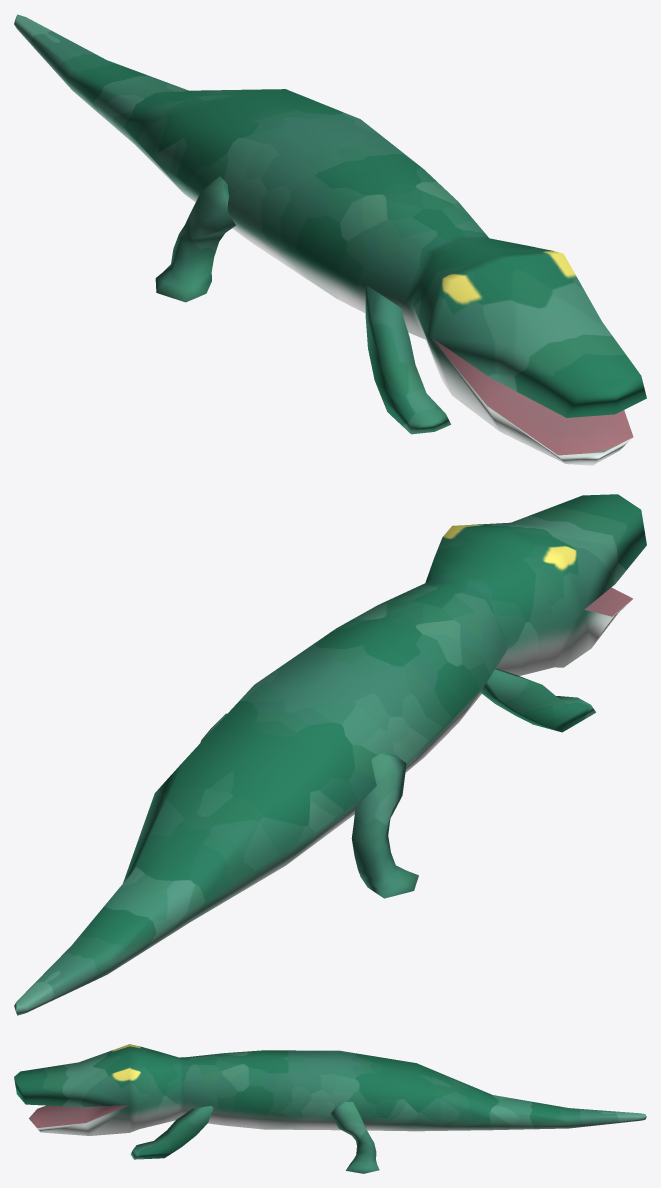
Rendered from crocodile.fbx.
The picture shows the model from 3 angles, top to bottom: view 1: azimuth 30°, elevation 25°; view 2: azimuth 150°, elevation 25°; view 3: azimuth 270°, elevation 25°; orthographic projection. The views are drawn at different scales.
Parts seen in each view (by area): view 1: wani; view 2: wani; view 3: wani.
Boxes of the visible parts, <box> form: wani: <box>14,14,646,465</box>; wani: <box>14,494,646,1015</box>; wani: <box>14,1044,646,1173</box>.
Size of the model in its own units: 5.47 by 3.38 by 22.17.
